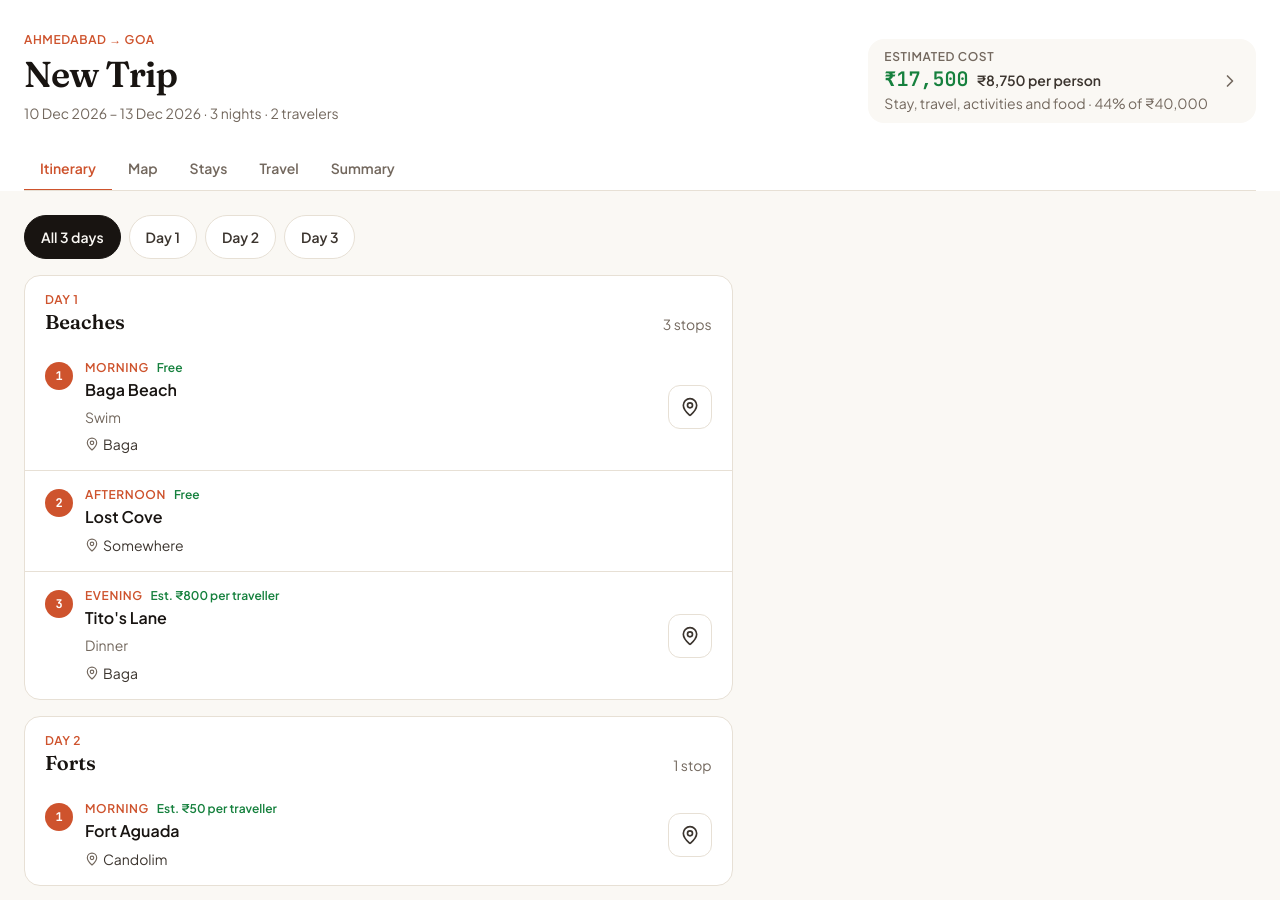
Test: Responsive trip and analytics interactions › keeps the itinerary beside the focused map on a large screen
Step 1. Click the button named "Locate on map" in the row of "Baga Beach" → (690, 407), box [668,385,712,429]
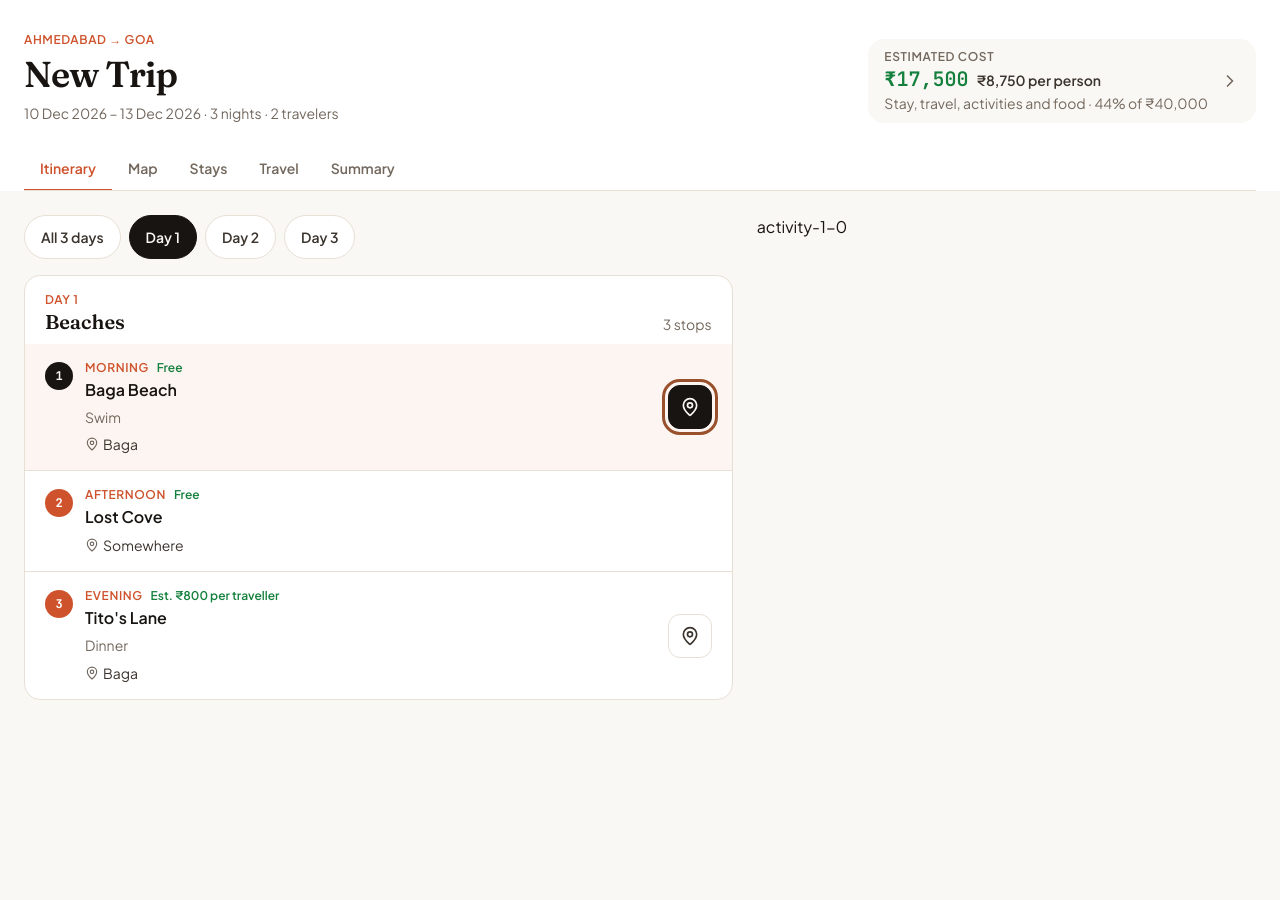
expect the heading "Baga Beach" is shown: met, box [85,378,177,400]
expect the element named "Synced Trip Map" reads "activity-1-0": met, box [757,216,847,237]
